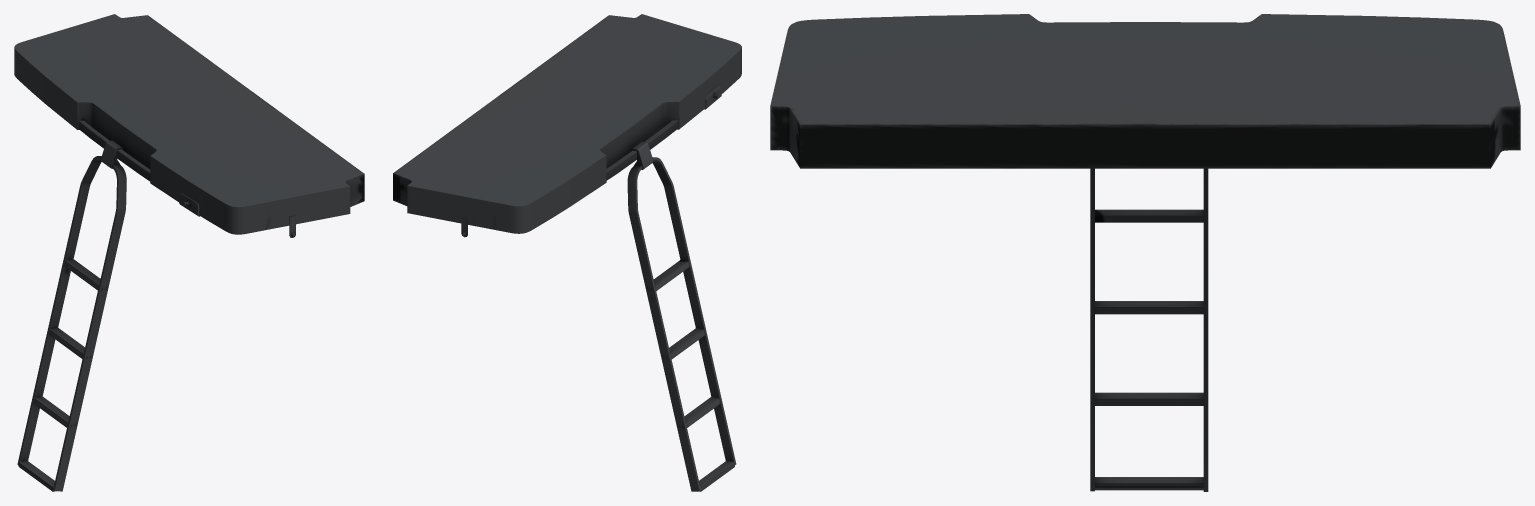
Rendered from Upper_bed.glb.
3 renders of one model, left to right at view 1: azimuth 30°, elevation 25°; view 2: azimuth 150°, elevation 25°; view 3: azimuth 270°, elevation 25°, orthographic. The views are drawn at different scales.
Parts seen in each view (by area): view 1: Upper_bed; view 2: Upper_bed; view 3: Upper_bed.
Part boxes in pixels (x1=…): Upper_bed: x1=14, y1=14, x2=364, y2=491; Upper_bed: x1=393, y1=14, x2=741, y2=491; Upper_bed: x1=770, y1=14, x2=1520, y2=491.
Bounding box in the file's own units: 1.04 × 1.51 × 1.94.
1 material, 1 textured.
